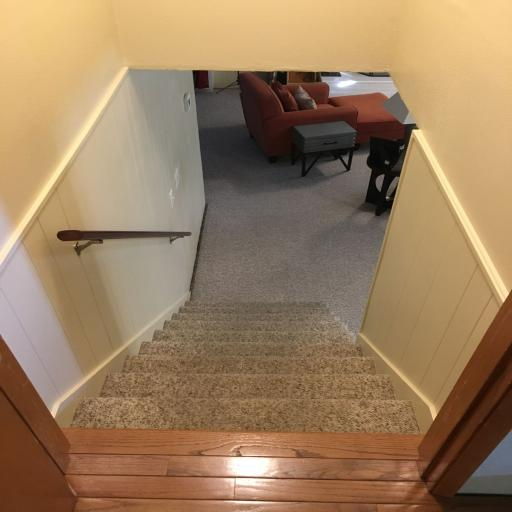hole: (239, 72, 404, 162)
laptop: (72, 300, 419, 434)
